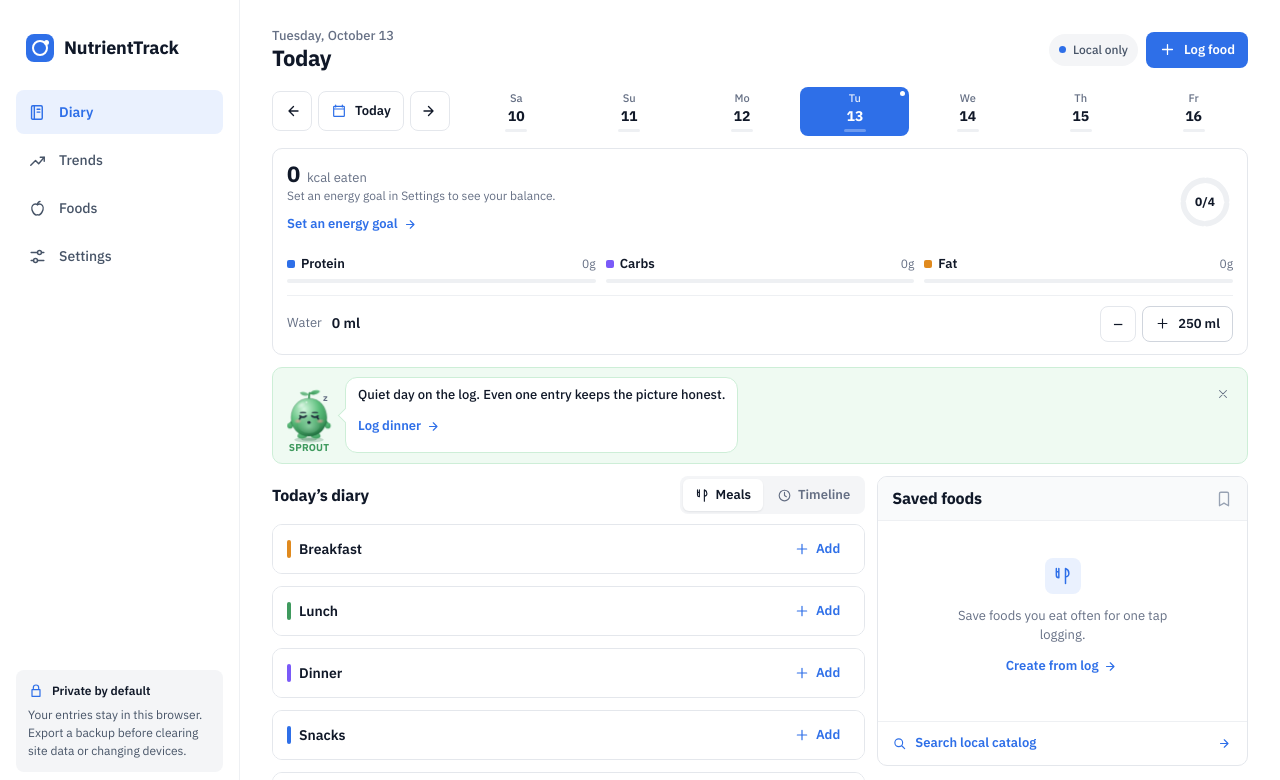
Test: water row › uses 250 ml glasses for kg users
The image size is (1280, 780).
Click the button with aria-label "Add 250 ml of water".
click(1188, 324)  # box x1=1142 y1=306 x2=1233 y2=342
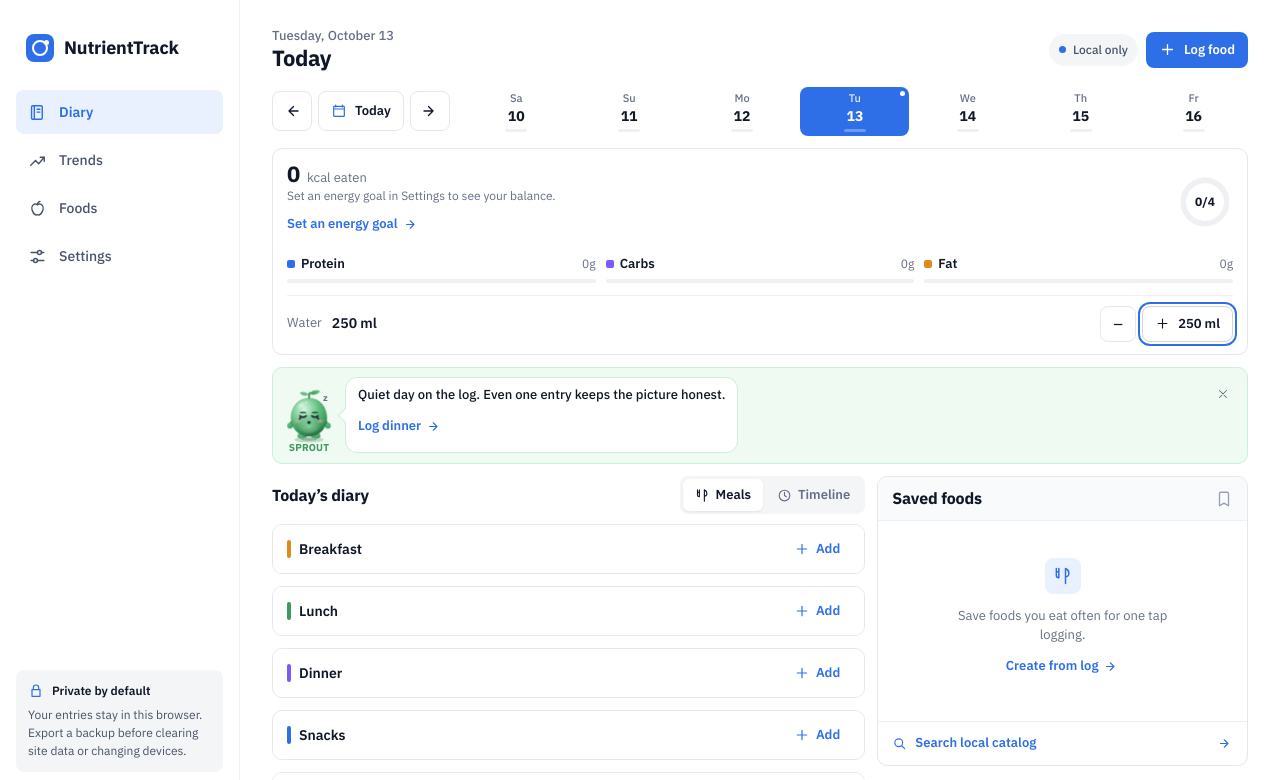
Result: the text with class "water-value" reads "250 ml" at x1=332 y1=314 x2=377 y2=332
